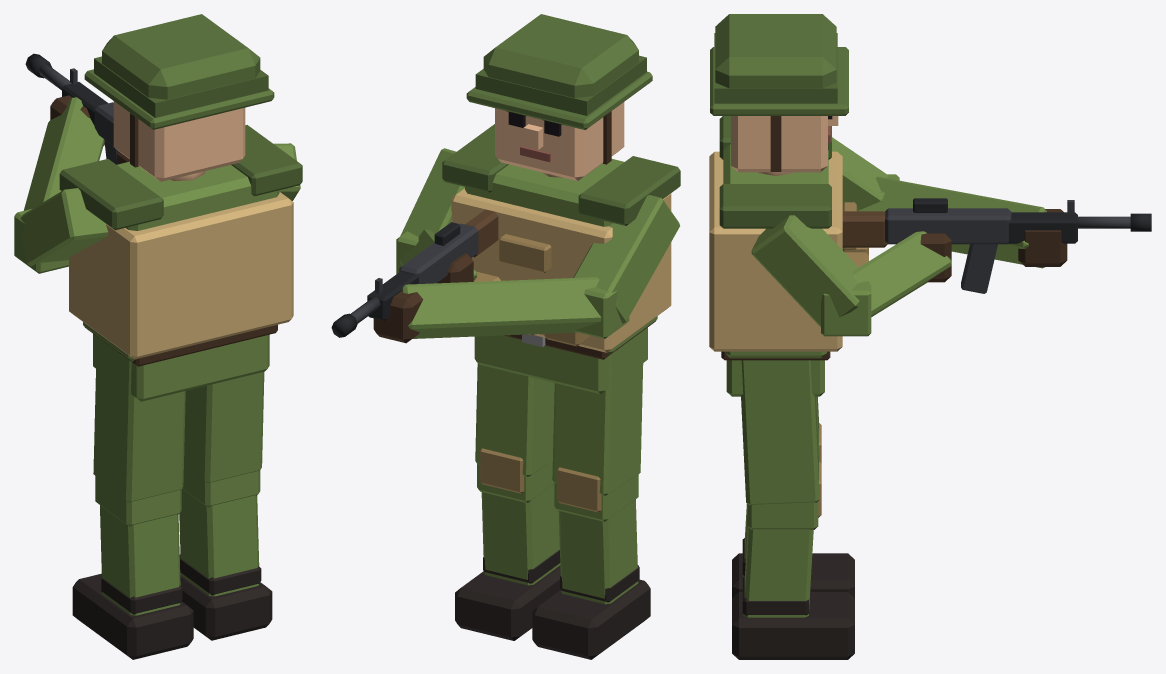
Rendered from soldier.glb.
The picture shows the model from 3 angles, left to right: view 1: azimuth 30°, elevation 25°; view 2: azimuth 150°, elevation 25°; view 3: azimuth 270°, elevation 25°; orthographic projection. The views are drawn at different scales.
Parts seen in each view (by area): view 1: Torso, LegL, Head, LegR, ArmL, Hips, Gun, ArmR; view 2: LegL, Torso, LegR, Head, ArmL, Hips, Gun, ArmR; view 3: LegR, Torso, Head, ArmR, Gun, ArmL, LegL, Hips.
Boxes of the visible parts, <box> form: Torso: <box>59,125,302,361</box>; LegL: <box>72,337,193,659</box>; Head: <box>84,14,274,181</box>; LegR: <box>179,372,272,640</box>; ArmL: <box>14,95,108,273</box>; Hips: <box>84,324,277,401</box>; Gun: <box>25,53,118,164</box>; ArmR: <box>117,143,300,200</box>; LegL: <box>532,330,650,659</box>; Torso: <box>442,124,680,354</box>; LegR: <box>455,363,560,640</box>; Head: <box>466,14,652,180</box>; ArmL: <box>373,195,679,343</box>; Hips: <box>474,320,656,394</box>; Gun: <box>331,209,498,337</box>; ArmR: <box>396,148,477,283</box>; LegR: <box>732,360,854,659</box>; Torso: <box>709,116,868,358</box>; Head: <box>710,14,848,172</box>; ArmR: <box>751,215,951,336</box>; Gun: <box>842,198,1151,293</box>; ArmL: <box>832,137,1067,268</box>; LegL: <box>732,396,854,597</box>; Hips: <box>721,351,830,396</box>.
Bounding box in the file's own units: 0.8054 × 1.86 × 1.26.
